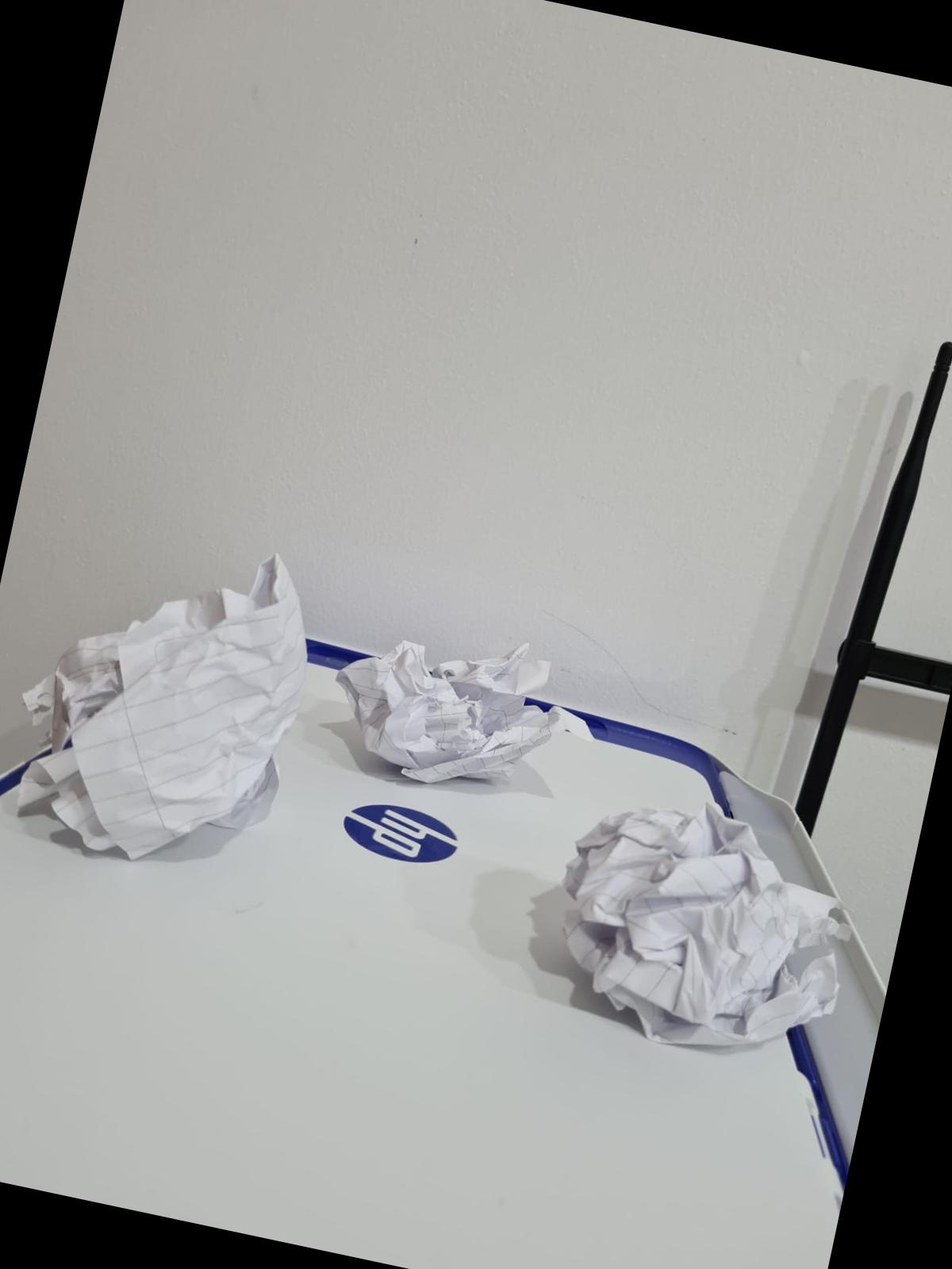Kertas: (18, 555, 306, 860), (565, 804, 848, 1045), (336, 642, 559, 784)
